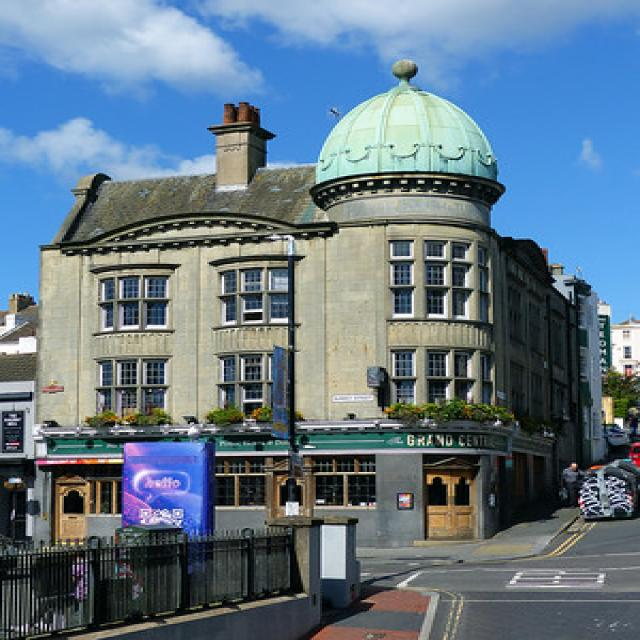building: (30, 58, 591, 554)
